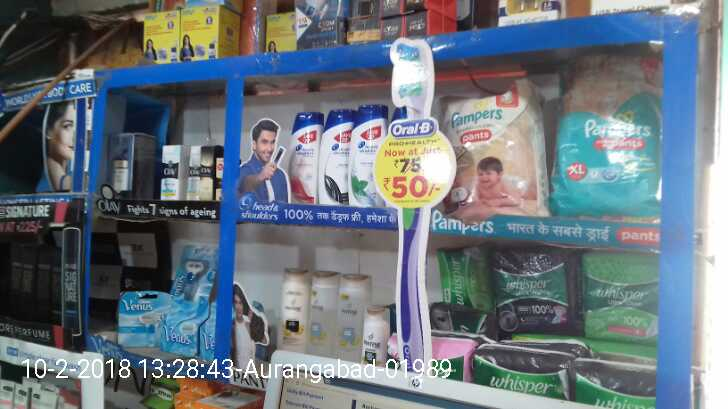venus: (161, 251, 208, 347), (118, 296, 160, 340)
